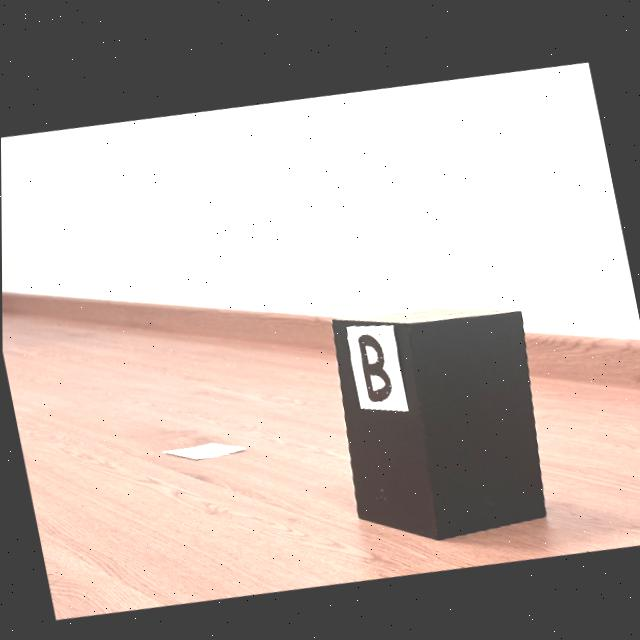B: (358, 330, 392, 398)
